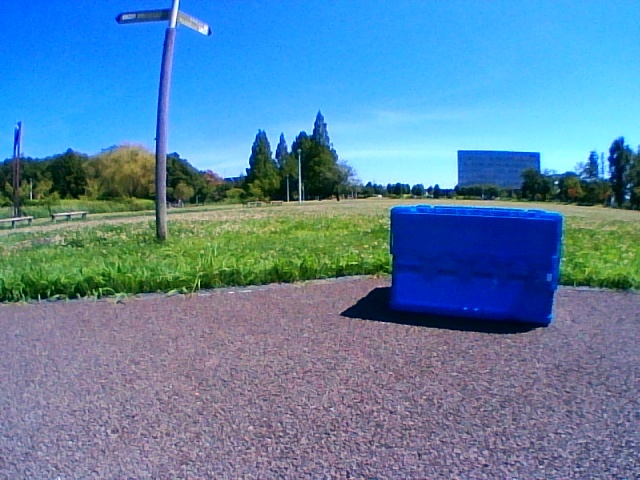blue_box: (391, 207, 563, 327)
